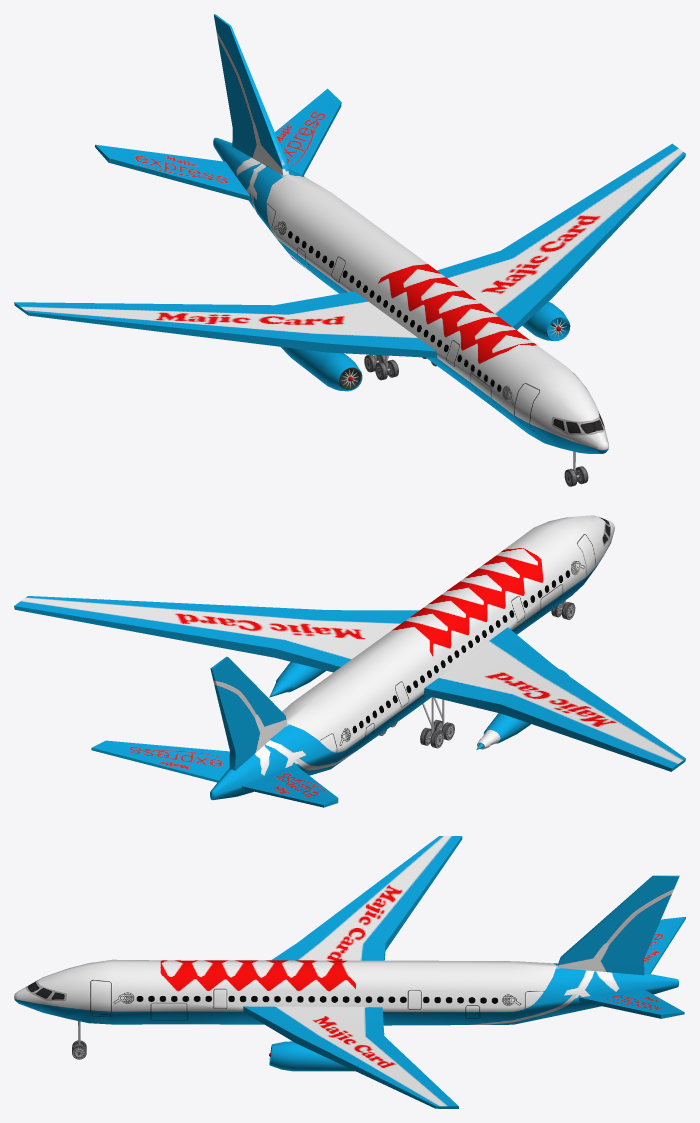
Rendered from aeroplane.fbx.
3 views of the same model, one above another, from view 1: azimuth 30°, elevation 25°; view 2: azimuth 150°, elevation 25°; view 3: azimuth 270°, elevation 25° (orthographic). The views are drawn at different scales.
Visible parts, largest first — view 1: aeroplane_anim02_bake01:aeroplane_card_aeroplane_anim02_bake; view 2: aeroplane_anim02_bake01:aeroplane_card_aeroplane_anim02_bake; view 3: aeroplane_anim02_bake01:aeroplane_card_aeroplane_anim02_bake.
Boxes of the visible parts, box(x1,y1,x2,y2) form: aeroplane_anim02_bake01:aeroplane_card_aeroplane_anim02_bake: box(14, 14, 685, 453); aeroplane_anim02_bake01:aeroplane_card_aeroplane_anim02_bake: box(14, 515, 685, 807); aeroplane_anim02_bake01:aeroplane_card_aeroplane_anim02_bake: box(14, 836, 685, 1108).
Bounding box in the file's own units: 3096 × 952 × 3255.
Materials: 1 (1 with a texture image).
